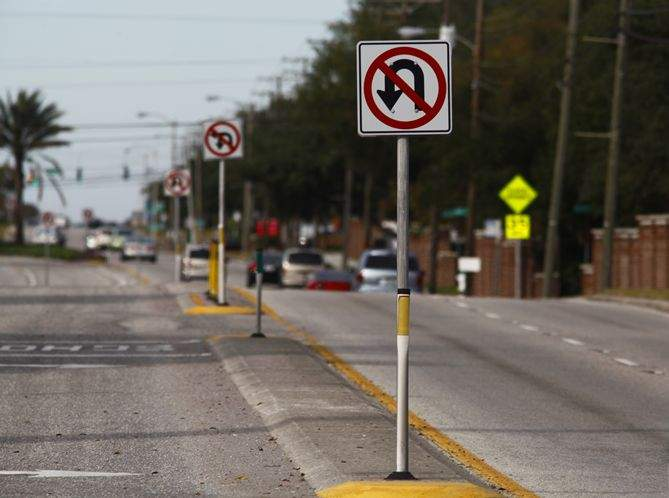No U Turn: (362, 47, 446, 129)
